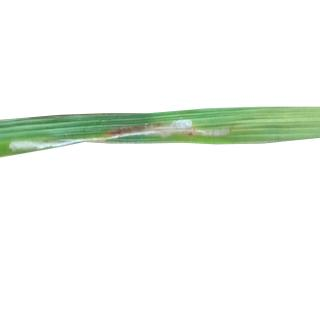Hawar-Daun: (110, 126, 233, 138), (9, 136, 71, 148), (160, 118, 195, 138)
